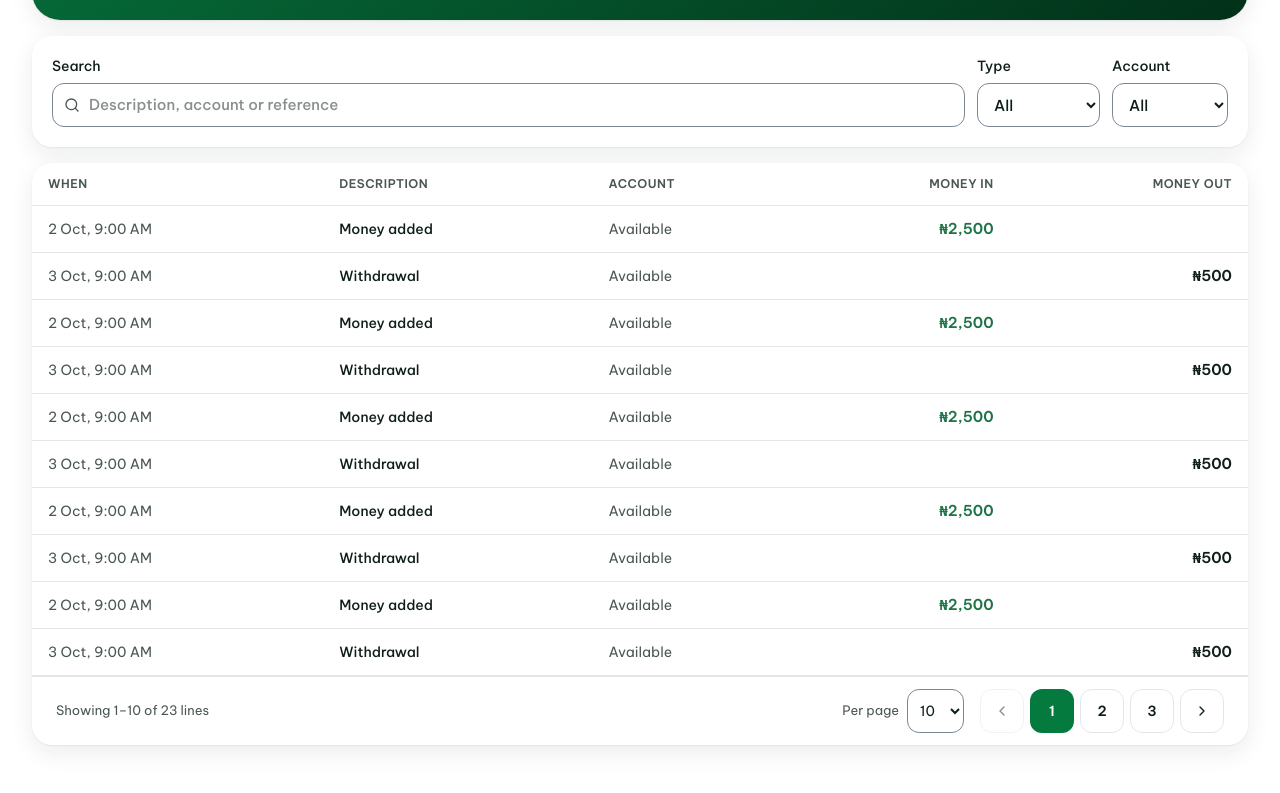
Test: statements › pages through the lines, ten at a time, and starts again on the first page after filtering
(page scrolled)
Check: the text "Showing 1–10 of 23 lines" is shown, box 56,702 -> 209,718
Step 1. Click the button named "Page 3" → [1152, 711], box 1130,689 -> 1174,733
(page scrolled)
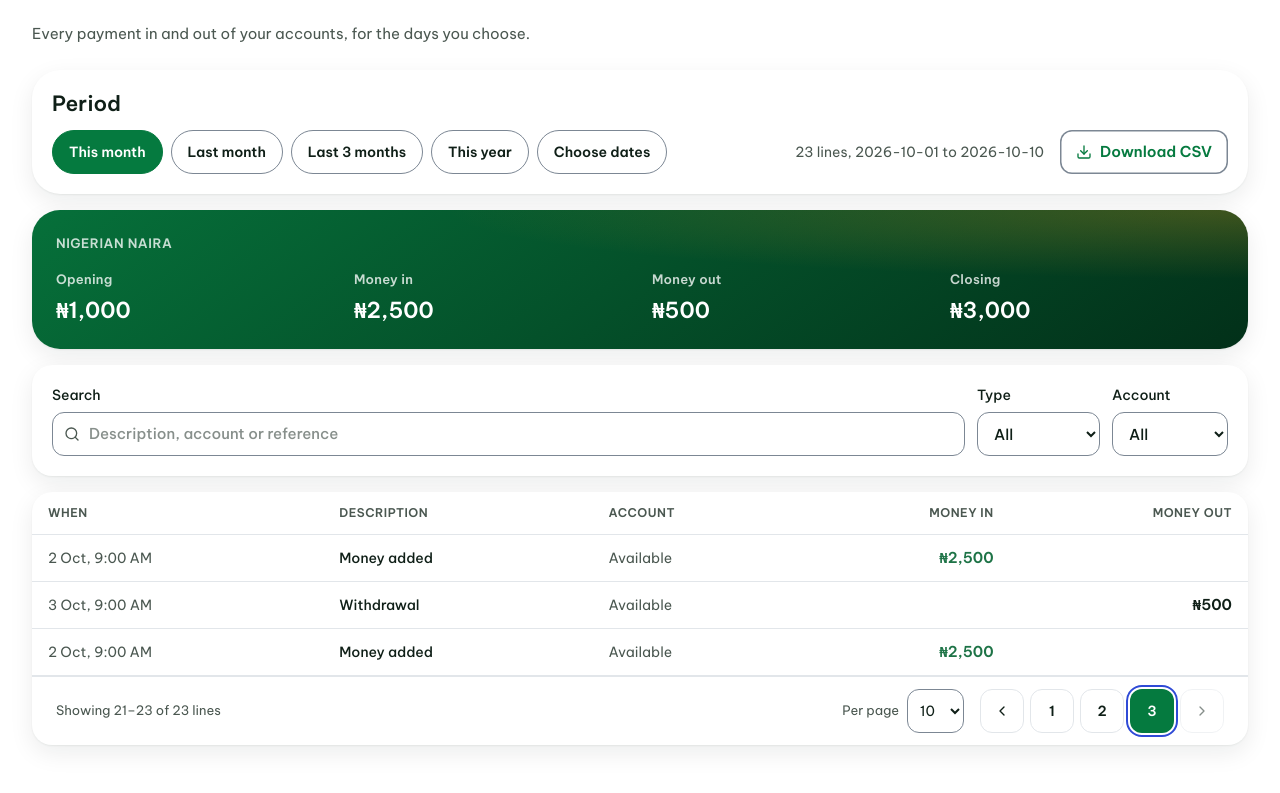
Check: the text "Showing 21–23 of 23 lines" is shown, box 56,702 -> 221,718
Step 2. Select "Money out" in the dropdown labelled "Type" → [1038, 434], box 977,412 -> 1100,456
(page scrolled)
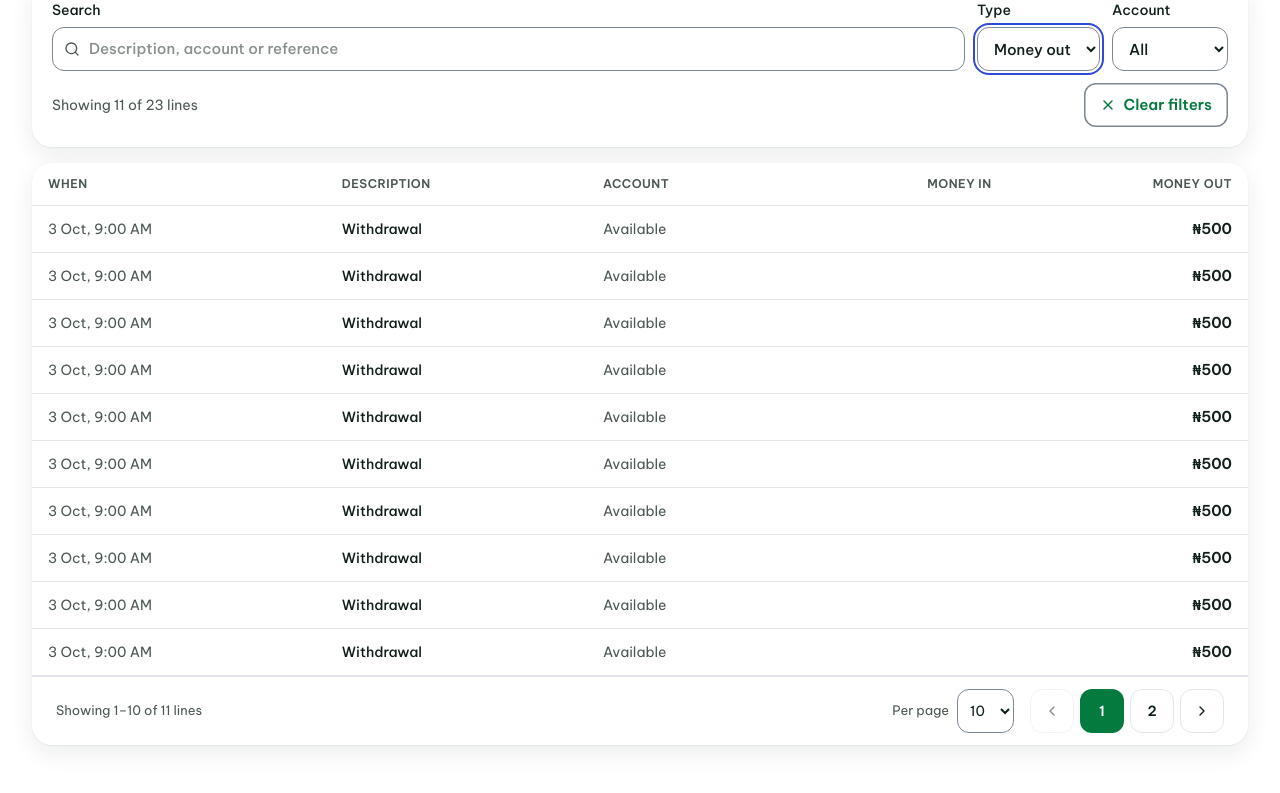
Check: the text "Showing 1–10 of 11 lines" is shown, box 56,702 -> 202,718
